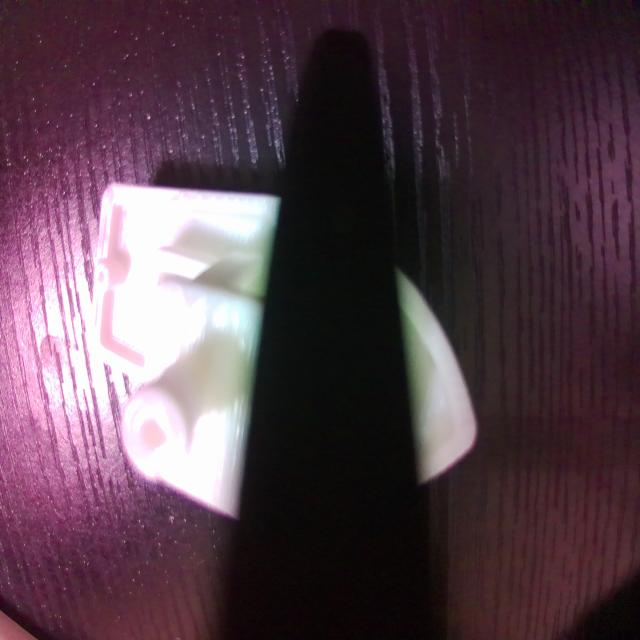ship: (88, 179, 478, 530)
